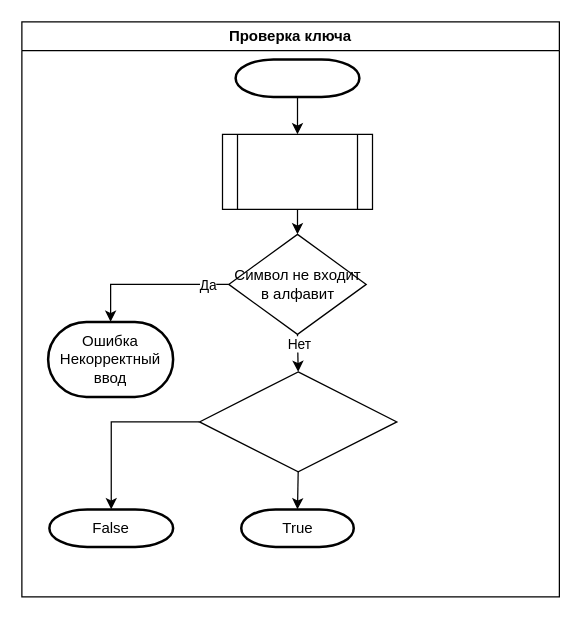
This 581x619 diagram has some shape labels left out. Here are the shapes that lost their labels. From the top down, the centre of each, then its label:
the point at 297,78: Начало
the point at 296,171: Получуение ключевого слова и алфавита
the point at 297,421: Длина текста не равна 8
